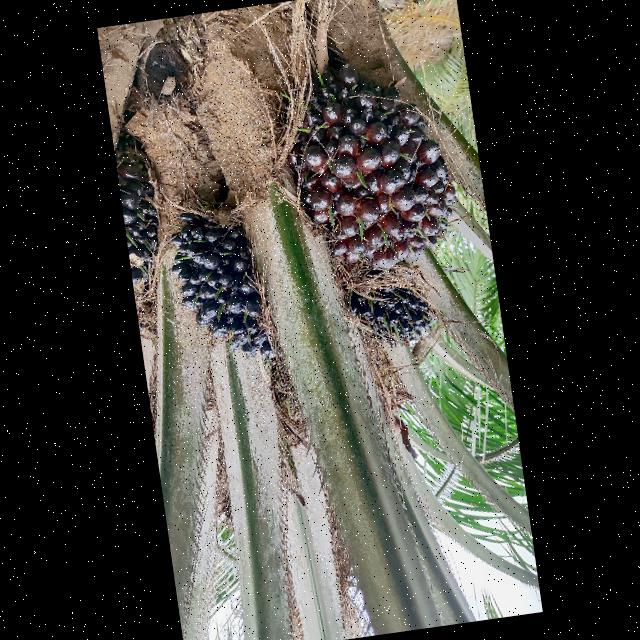Unripe: (293, 65, 455, 267), (166, 212, 275, 358), (114, 132, 156, 288), (347, 286, 431, 343)
